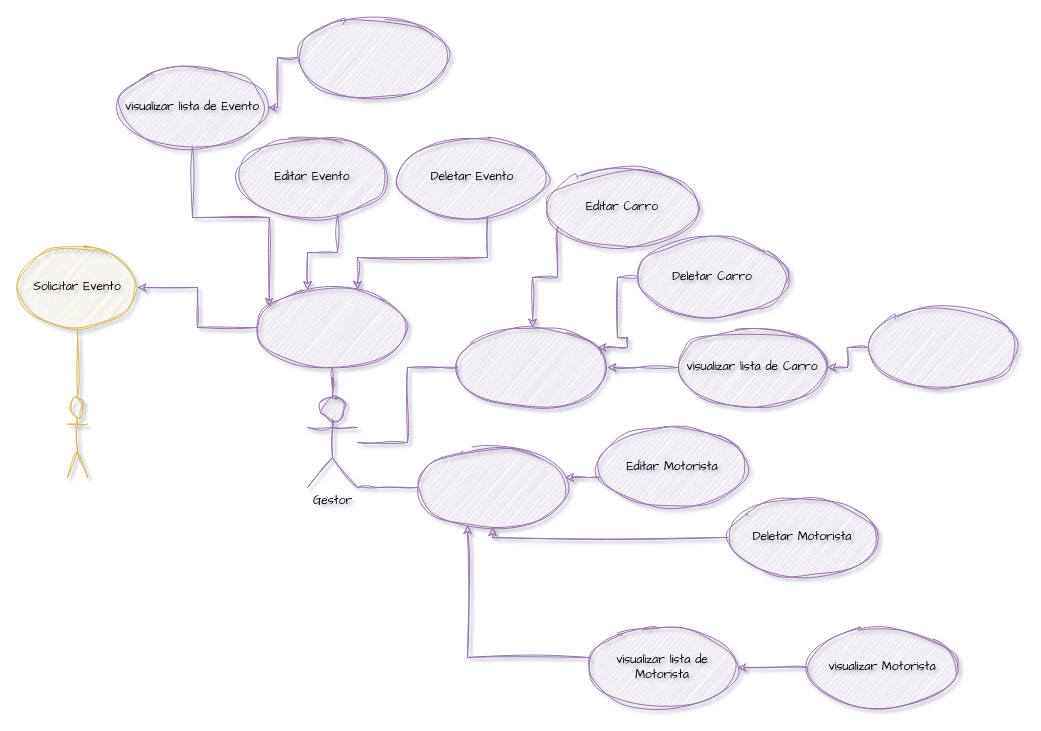
Image size: 1041x731. Some labels were removed from this diagram. Here are the shapes that lost their labels. From the top down, the centre of each, then its label:
At (372,57): "visualizar Evento".
At (332,327): "Gerar Evento".
At (942,347): "visualizar Carro".
At (532,367): "Cadastrar Carro".
At (77,437): "Motrista".
At (492,487): "Cadastrar Motorista".
